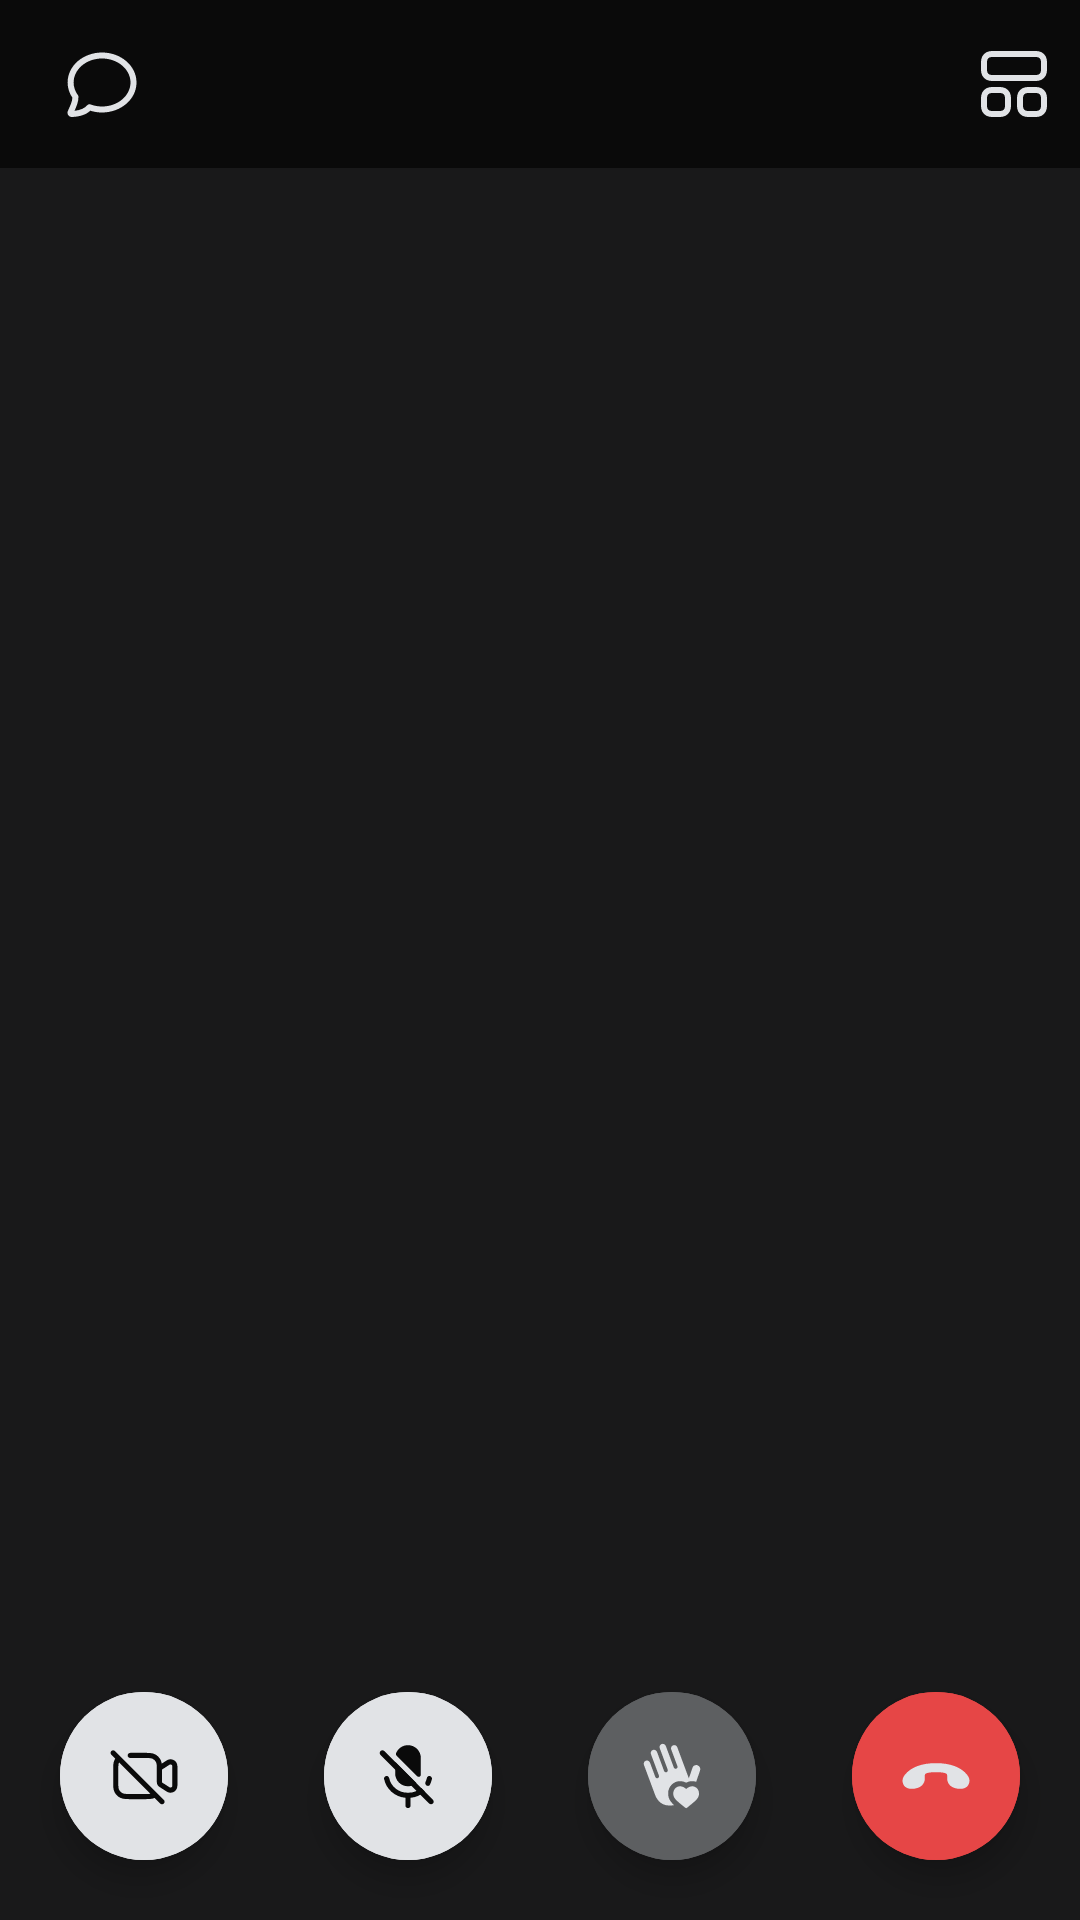

Icons on this 1080w x 1920h Android screen, each with its box as (x1, y1, x2, y2):
grid: (981, 51, 1047, 117)
hand heart: (588, 1692, 756, 1860)
message: (67, 52, 137, 117)
micrifone slash: (324, 1692, 492, 1860)
phone down: (852, 1692, 1020, 1860)
videocam slash: (60, 1692, 228, 1860)
